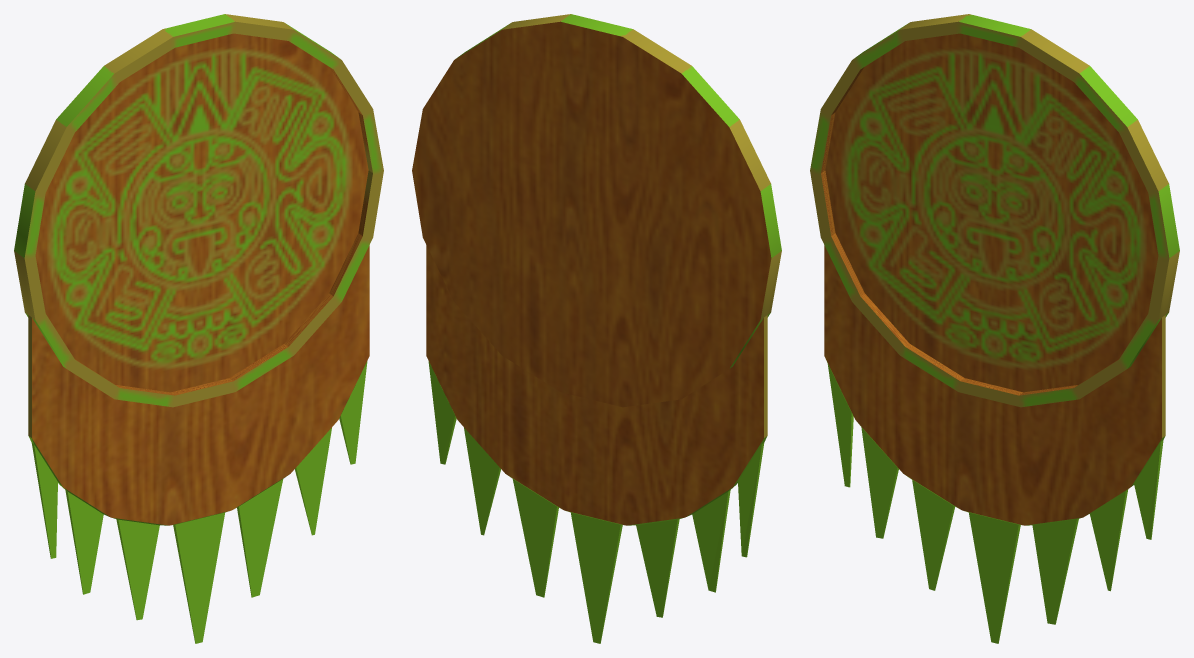
Rendered from Sheild2.FBX.
3 renders of one model, left to right at view 1: azimuth 30°, elevation 25°; view 2: azimuth 150°, elevation 25°; view 3: azimuth 330°, elevation 25°, orthographic.
Visible parts, largest first — view 1: Sheild2; view 2: Sheild2; view 3: Sheild2.
Boxes of the visible parts, x1,y1,x2,y2 form: Sheild2: (14,14,383,643); Sheild2: (412,14,781,643); Sheild2: (810,14,1179,643).
Size of the model in its own units: 17.81 by 29.24 by 0.9078.
